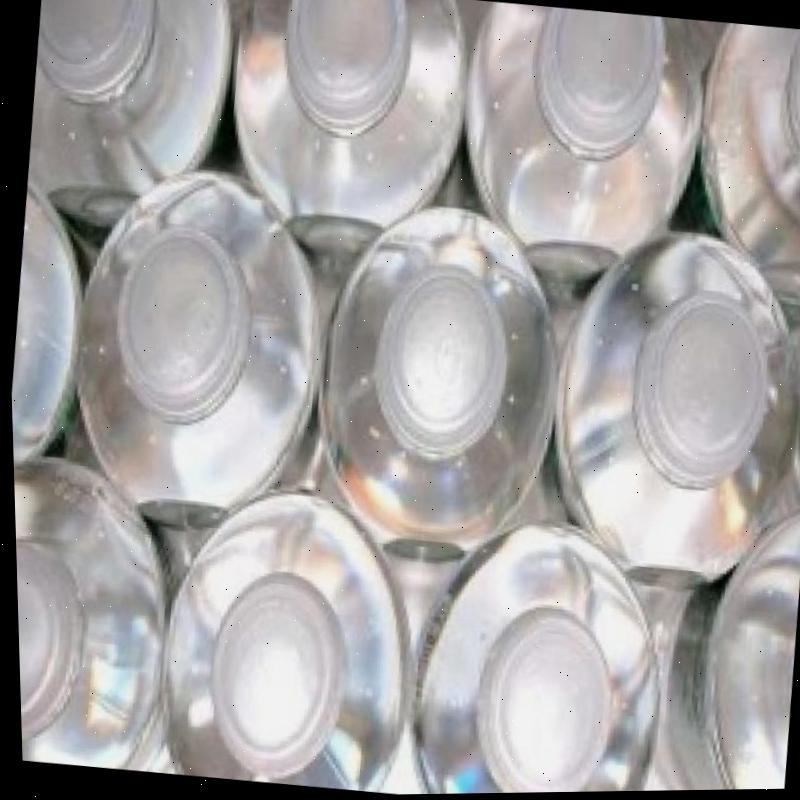botella: (49, 156, 346, 555), (294, 184, 577, 583), (129, 468, 423, 798), (547, 227, 800, 605), (434, 0, 719, 309), (383, 504, 681, 796), (201, 0, 477, 268), (10, 433, 186, 774), (17, 0, 237, 238), (654, 505, 800, 793), (681, 21, 800, 309), (4, 181, 101, 531)
